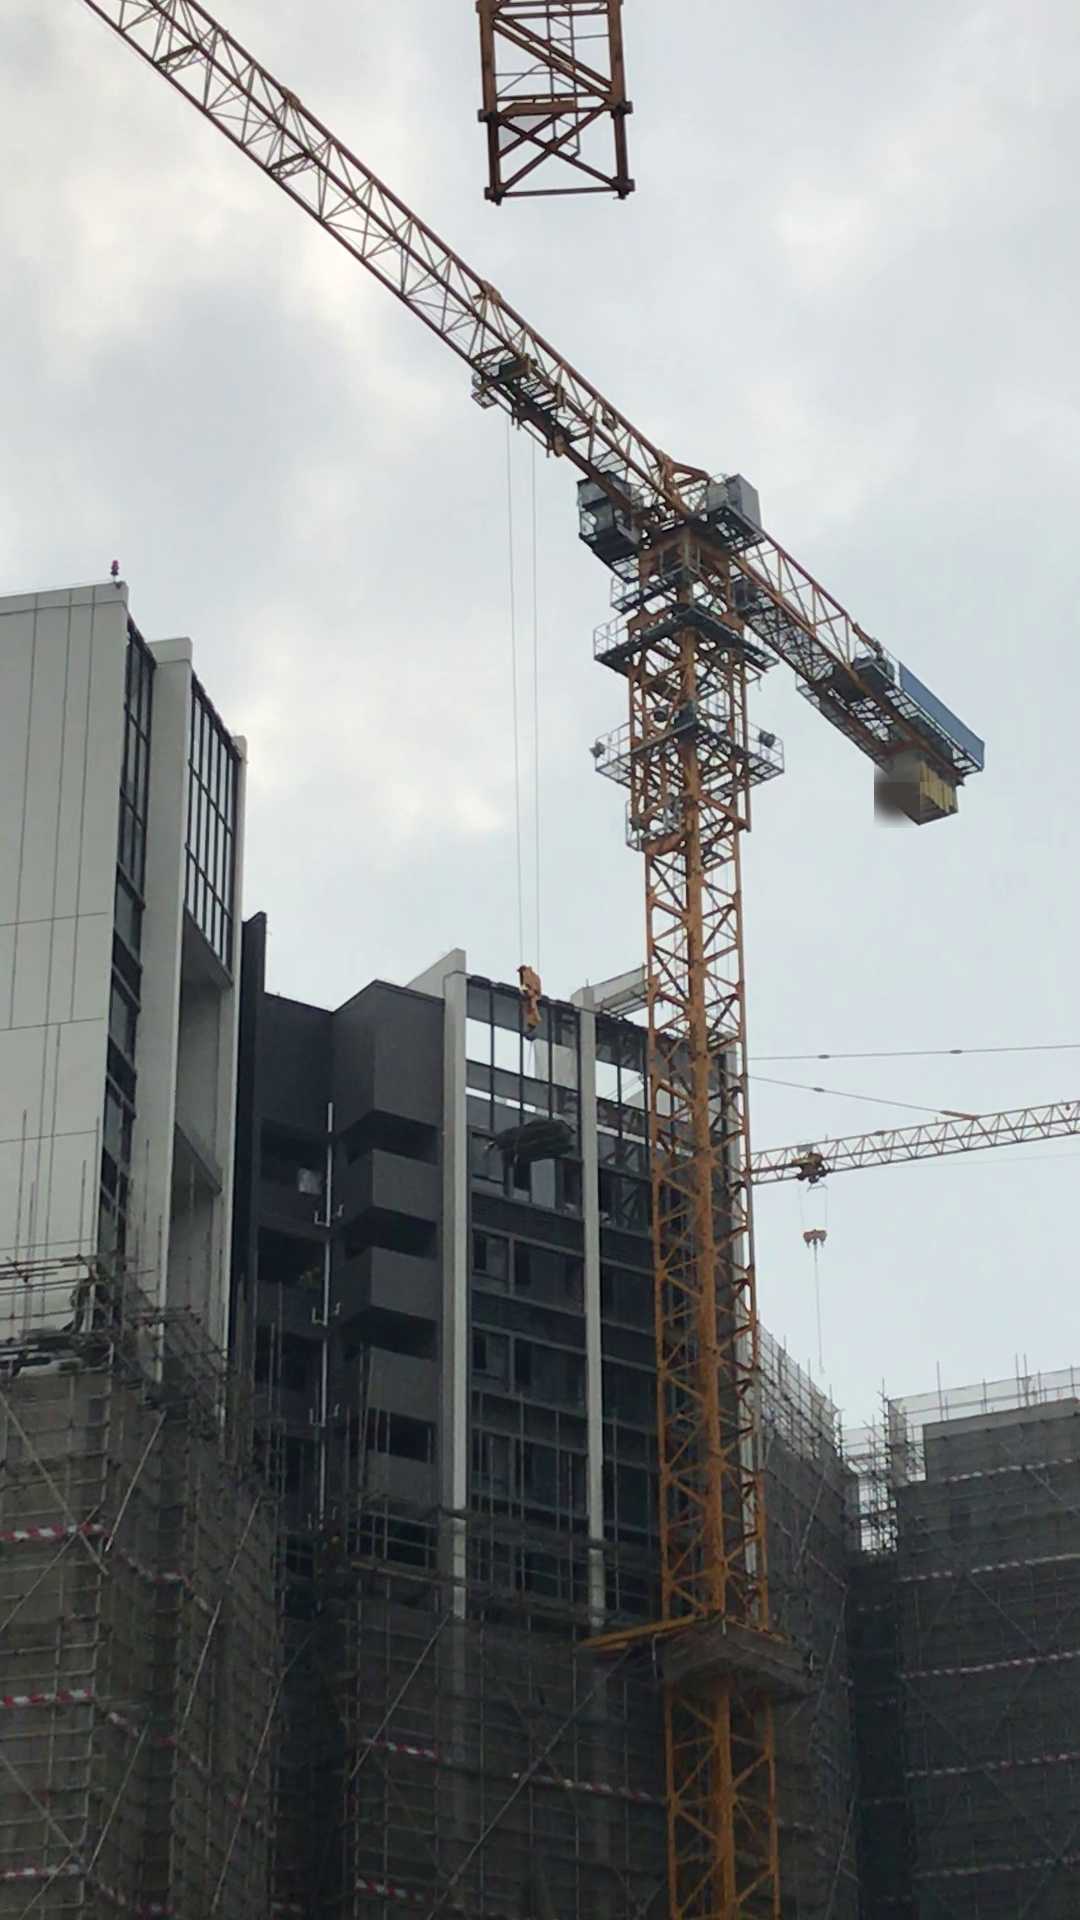hook: (500, 968, 560, 1048)
